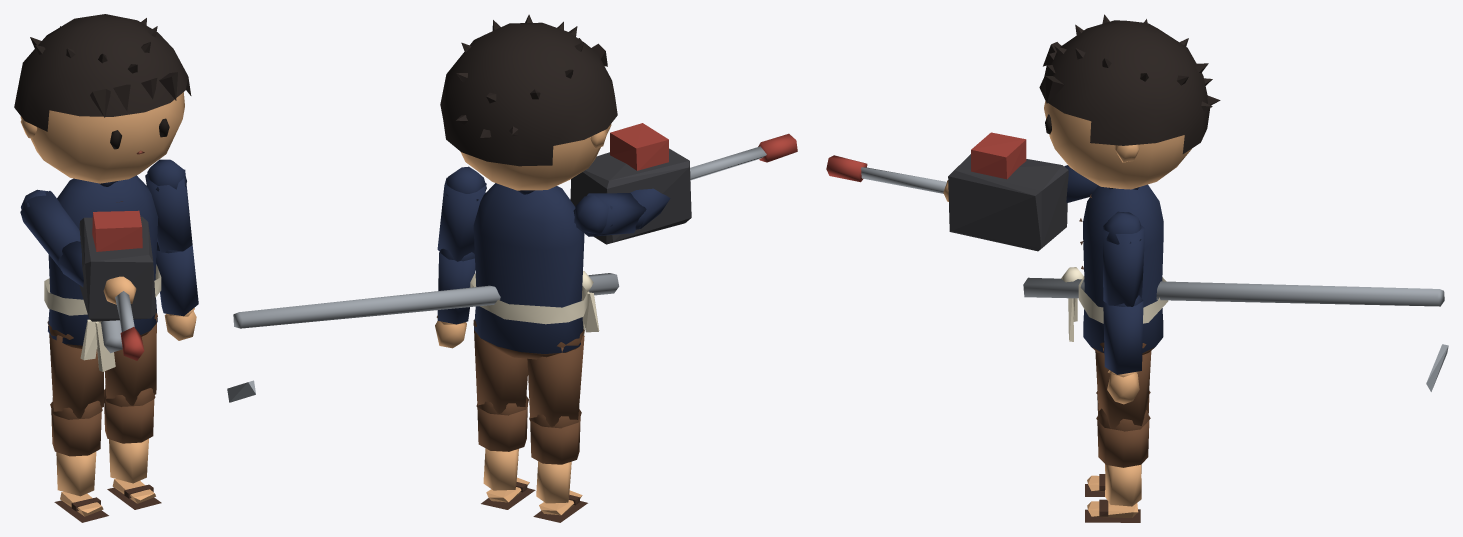
The model's file is south_longtail_driver.glb.
3 renders of one model, left to right at view 1: azimuth 30°, elevation 25°; view 2: azimuth 150°, elevation 25°; view 3: azimuth 270°, elevation 25°, orthographic.
Visible parts, largest first — view 1: head, prop_longtail_engine, body, shin_L, shin_R, leg_R, arm_L, forearm_L, leg_L, arm_R, forearm_R; view 2: head, body, prop_longtail_engine, shin_L, shin_R, leg_R, arm_L, leg_L, arm_R, forearm_L, forearm_R; view 3: head, prop_longtail_engine, body, shin_L, arm_L, forearm_L, leg_L, arm_R.
Boxes of the visible parts, x1,y1,x2,y2 form: head: [14, 14, 191, 183]; prop_longtail_engine: [79, 210, 156, 360]; body: [44, 175, 161, 371]; shin_L: [104, 384, 161, 509]; shin_R: [51, 397, 108, 522]; leg_R: [47, 321, 103, 419]; arm_L: [145, 159, 192, 253]; forearm_L: [156, 245, 198, 340]; leg_L: [104, 313, 157, 406]; arm_R: [20, 189, 80, 270]; forearm_R: [58, 241, 136, 304]; head: [440, 14, 617, 190]; body: [470, 183, 599, 359]; prop_longtail_engine: [227, 123, 797, 402]; shin_L: [477, 394, 535, 509]; shin_R: [530, 408, 587, 522]; leg_R: [527, 329, 584, 428]; arm_L: [437, 166, 486, 261]; leg_L: [473, 319, 528, 415]; arm_R: [573, 193, 646, 236]; forearm_L: [435, 251, 475, 348]; forearm_R: [630, 188, 670, 229]; head: [1039, 14, 1220, 189]; prop_longtail_engine: [826, 132, 1448, 391]; body: [1061, 184, 1168, 354]; shin_L: [1085, 408, 1149, 522]; arm_L: [1102, 211, 1145, 306]; forearm_L: [1103, 301, 1143, 404]; leg_L: [1095, 342, 1151, 431]; arm_R: [1064, 165, 1097, 202].
Size of the model in its own units: 0.8827 by 1.47 by 1.75.
